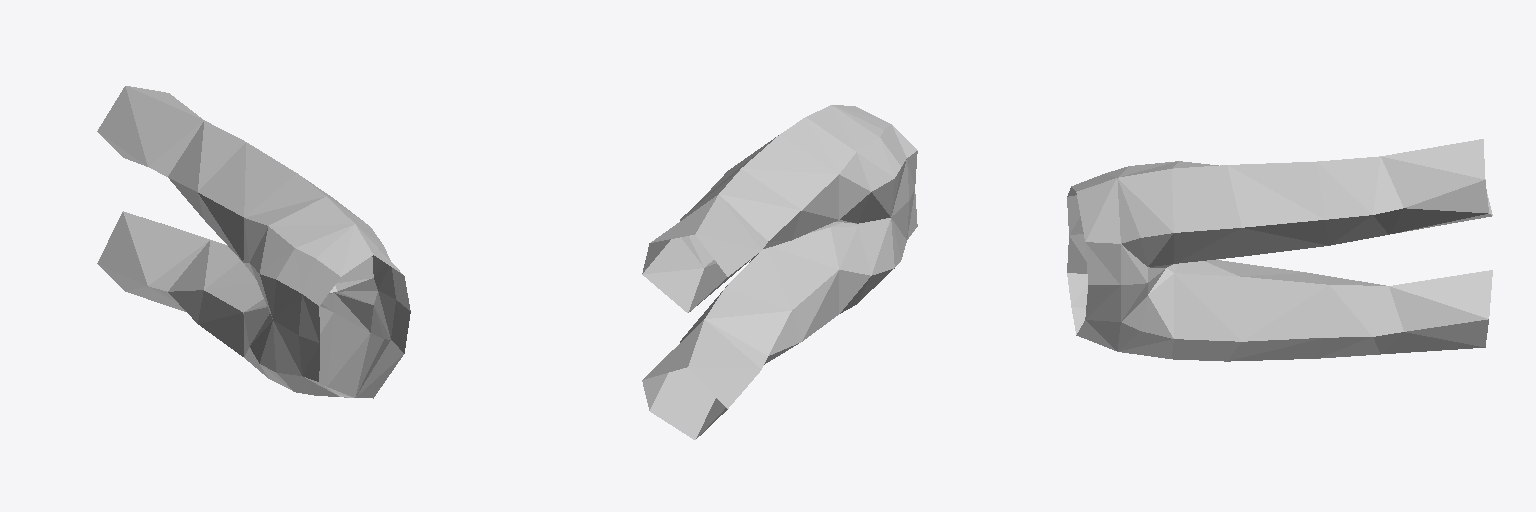
The model's file is 오리지널 하의.obj.
3 renders of one model, left to right at view 1: azimuth 30°, elevation 25°; view 2: azimuth 150°, elevation 25°; view 3: azimuth 270°, elevation 25°, orthographic.
Visible parts, largest first — view 1: rg_downbody_002; view 2: rg_downbody_002; view 3: rg_downbody_002.
Part boxes in pixels (x1,y1,x2,y2): rg_downbody_002: (97, 86, 410, 398); rg_downbody_002: (642, 105, 917, 439); rg_downbody_002: (1067, 139, 1492, 361).
Size of the model in its own units: 22.74 by 36.36 by 68.12.